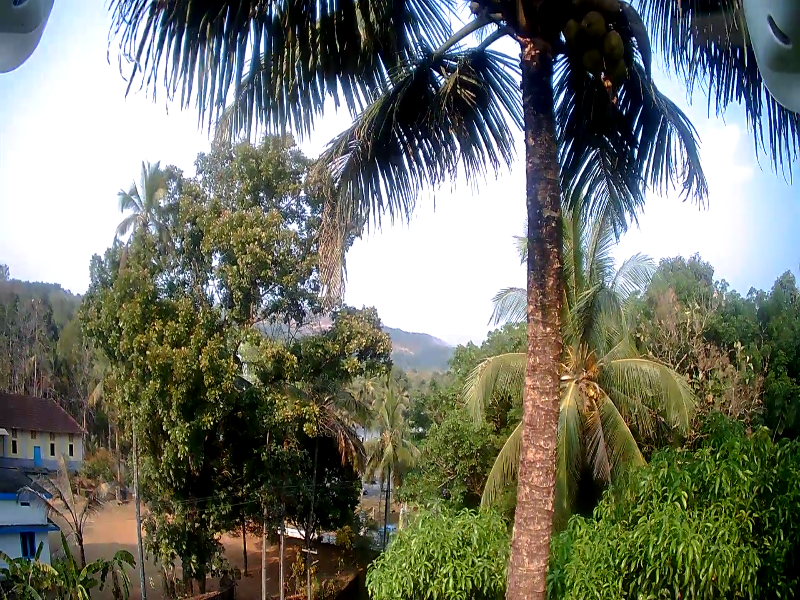coconut: (606, 29, 625, 59), (585, 12, 601, 34)
